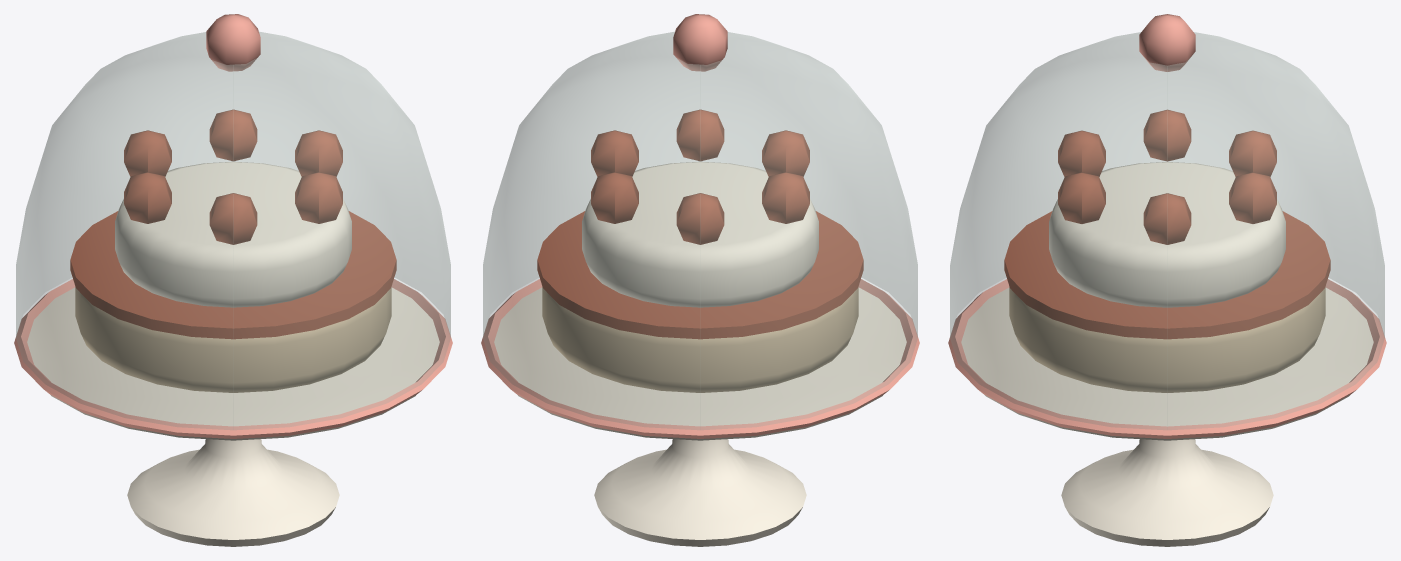
File: cake_stand_dome.glb
The picture shows the model from 3 angles, left to right: view 1: azimuth 30°, elevation 25°; view 2: azimuth 150°, elevation 25°; view 3: azimuth 270°, elevation 25°; orthographic projection.
Parts seen in each view (by area): view 1: cake_stand_dome; view 2: cake_stand_dome; view 3: cake_stand_dome.
Boxes of the visible parts, <box> form: cake_stand_dome: <box>14,14,452,546</box>; cake_stand_dome: <box>481,14,919,546</box>; cake_stand_dome: <box>948,14,1386,546</box>.
Bounding box in the file's own units: 0.444 × 0.55 × 0.444.
